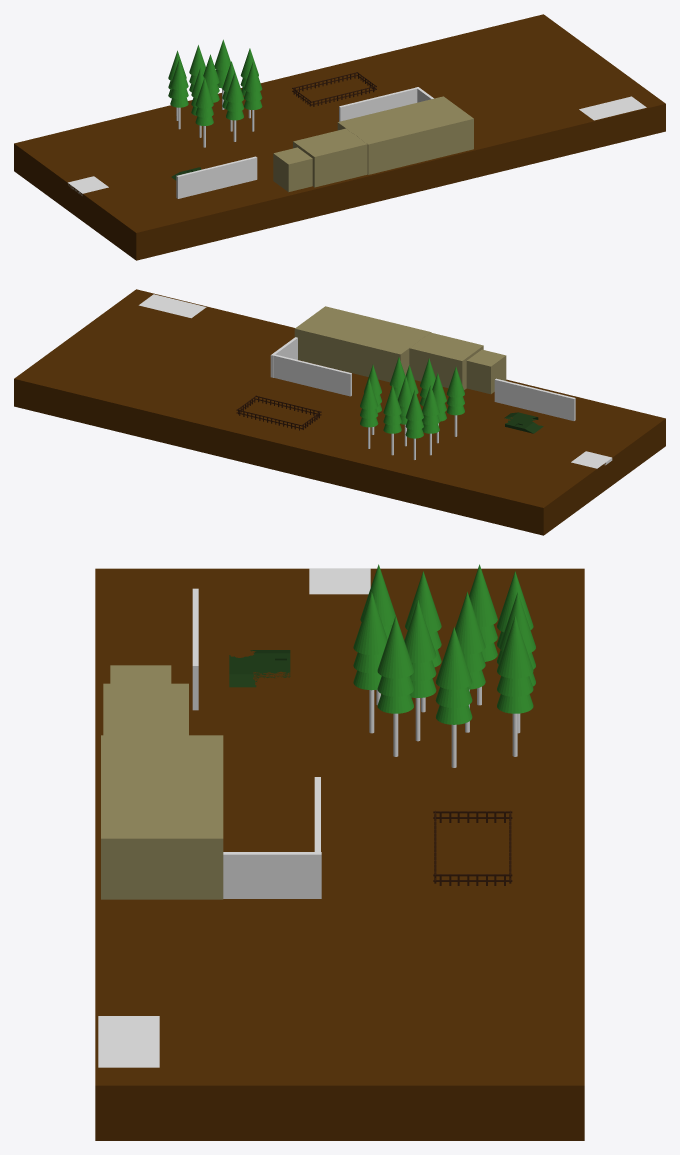
The model's file is Contested_Environment_1.dae.
3 renders of one model, top to bottom at view 1: azimuth 30°, elevation 25°; view 2: azimuth 150°, elevation 25°; view 3: azimuth 270°, elevation 25°, orthographic. The views are drawn at different scales.
Parts seen in each view (by area): view 1: Ground_Surface, Building_3, Building_2, Brick_Wall_1, Building_1, Brick_Wall_1.002, Finish, Start; view 2: Ground_Surface, Building_3, Building_2, Brick_Wall_1, Brick_Wall_1.002, Building_1, Finish, Hole_Hill_1, Start, Brick_Wall_1.001; view 3: Ground_Surface, Building_3, Brick_Wall_1.001, Building_2, Finish, Hole_Hill_1, Start, Tree Cone 3.003, Tree Cone 3.009, Tree Cone 3.002, Tree Cone 3.004, Tree Cone 3.008 (+6 smaller).
Part boxes in pixels (bbox=[...]): Ground_Surface: bbox=[14, 14, 665, 260]; Building_3: bbox=[337, 96, 473, 174]; Building_2: bbox=[293, 128, 367, 187]; Brick_Wall_1: bbox=[176, 156, 257, 198]; Building_1: bbox=[273, 147, 312, 192]; Brick_Wall_1.002: bbox=[339, 87, 417, 121]; Finish: bbox=[579, 96, 646, 120]; Start: bbox=[68, 176, 108, 195]; Ground_Surface: bbox=[14, 289, 665, 535]; Building_3: bbox=[294, 306, 431, 382]; Building_2: bbox=[409, 332, 483, 389]; Brick_Wall_1: bbox=[494, 378, 575, 420]; Brick_Wall_1.002: bbox=[273, 354, 351, 396]; Building_1: bbox=[466, 349, 506, 394]; Finish: bbox=[138, 294, 206, 318]; Hole_Hill_1: bbox=[504, 412, 543, 433]; Start: bbox=[571, 451, 612, 468]; Brick_Wall_1.001: bbox=[270, 337, 297, 377]; Ground_Surface: bbox=[95, 568, 584, 1140]; Building_3: bbox=[101, 735, 223, 899]; Brick_Wall_1.001: bbox=[223, 852, 321, 898]; Building_2: bbox=[103, 683, 188, 735]; Finish: bbox=[98, 1016, 159, 1067]; Hole_Hill_1: bbox=[229, 650, 290, 687]; Start: bbox=[309, 568, 370, 594]; Tree Cone 3.003: bbox=[377, 615, 413, 678]; Tree Cone 3.009: bbox=[436, 627, 472, 689]; Tree Cone 3.002: bbox=[497, 616, 533, 678]; Tree Cone 3.004: bbox=[353, 592, 387, 654]; Tree Cone 3.008: bbox=[404, 600, 436, 662].
Bounding box in the file's own units: 100 × 40 × 17.67.
Materials: 76 (2 with a texture image).
